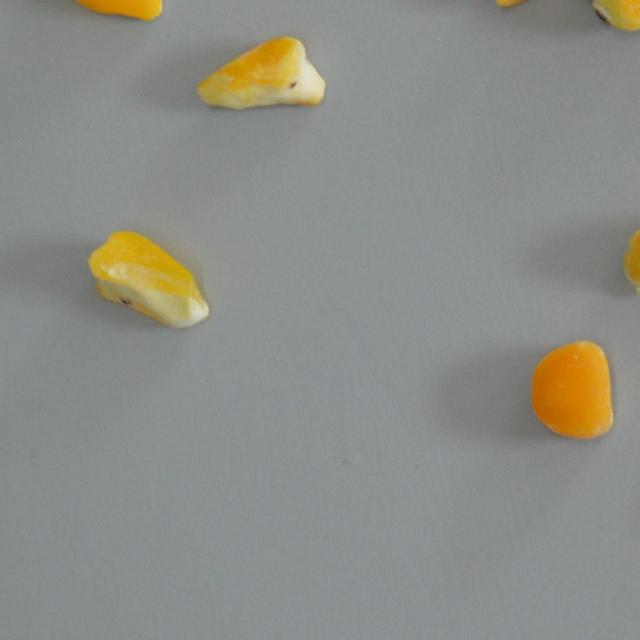dañado: (81, 225, 216, 336), (194, 31, 334, 116), (527, 335, 619, 444), (47, 0, 170, 24), (575, 0, 640, 32), (619, 210, 640, 300)
